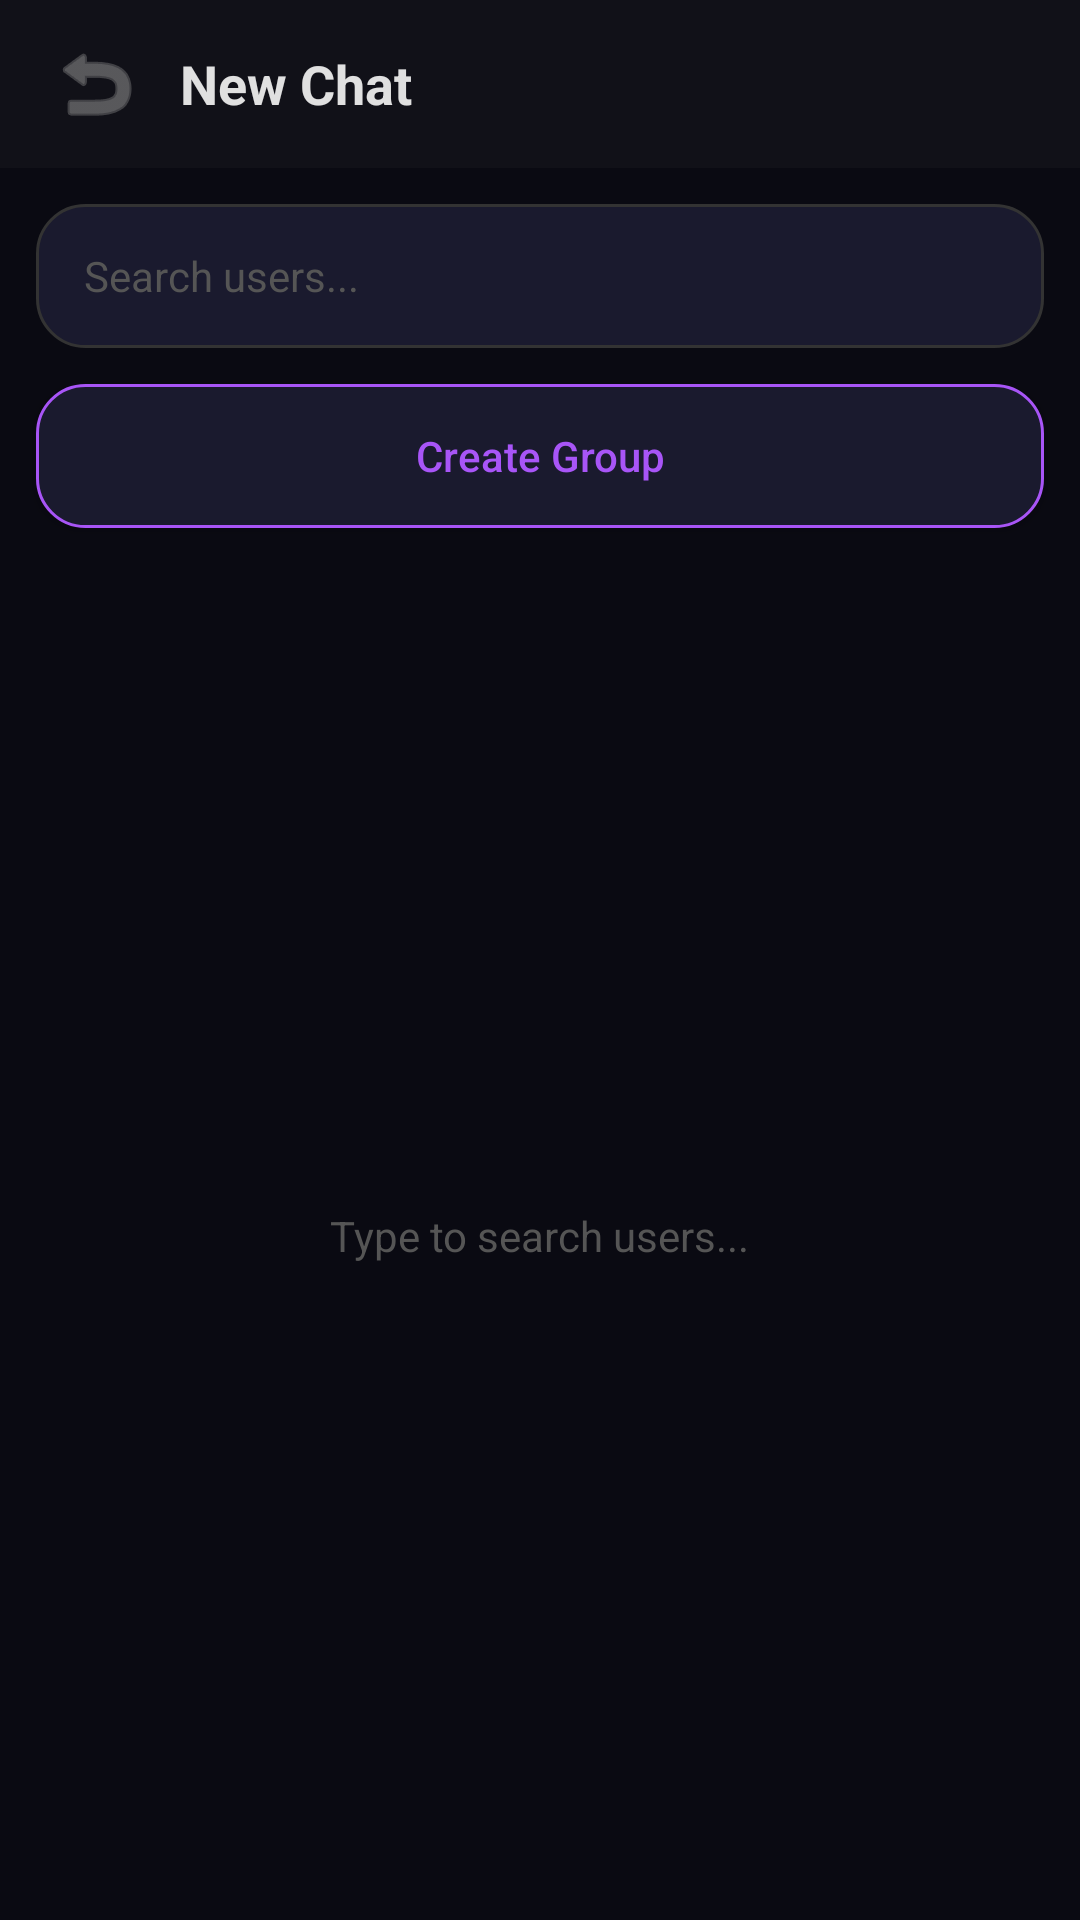

Where to tap for icons on this 1080px×1920px app screen, as (x=x, y=y):
Back: (x=97, y=85)
